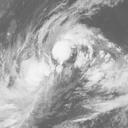cyclone: (50, 37, 76, 69)
